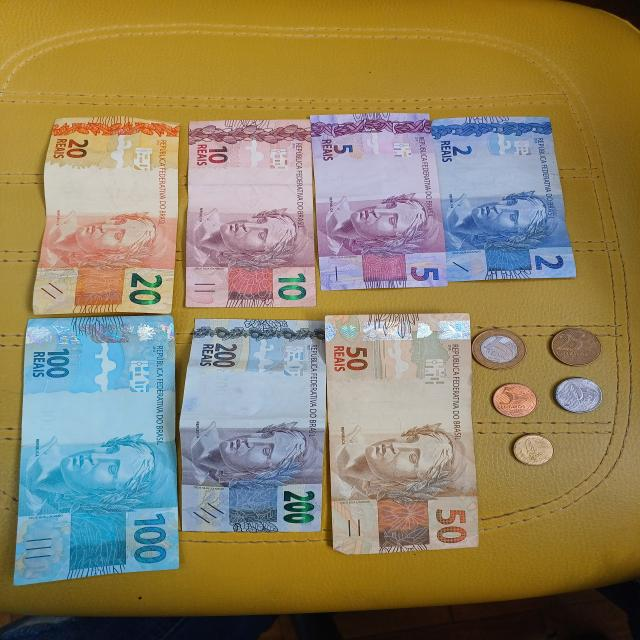1 real: (471, 330, 526, 372)
25 cents: (549, 326, 603, 367)
50 cents: (552, 376, 605, 414)
